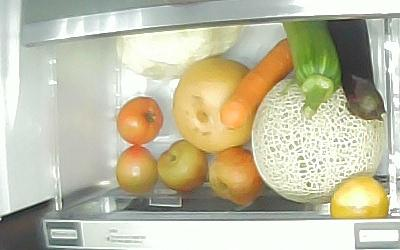cabbage: (115, 24, 242, 78)
carrot: (221, 37, 301, 130)
eggplant: (327, 21, 388, 120)
melon: (252, 76, 388, 204)
pear: (173, 59, 256, 150)
prune: (209, 148, 265, 207), (157, 140, 209, 194), (115, 145, 159, 194)
tangerine: (330, 175, 390, 218)
tomato: (116, 96, 163, 145)
zucchini: (281, 21, 341, 120)
